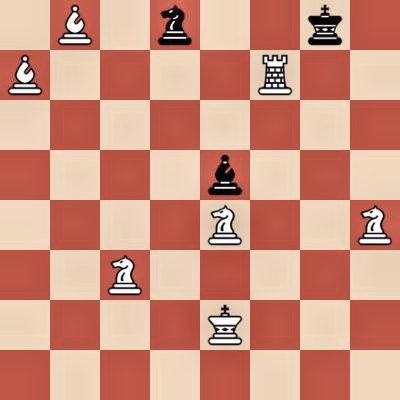black-bishop: (200, 150, 250, 200)
black-king: (300, 0, 350, 50)
black-knight: (150, 0, 200, 50)
white-bishop: (50, 0, 100, 50), (0, 50, 50, 100)
white-king: (200, 300, 250, 350)
white-knight: (200, 200, 250, 250), (350, 200, 400, 250), (100, 250, 150, 300)
white-rook: (250, 50, 300, 100)
